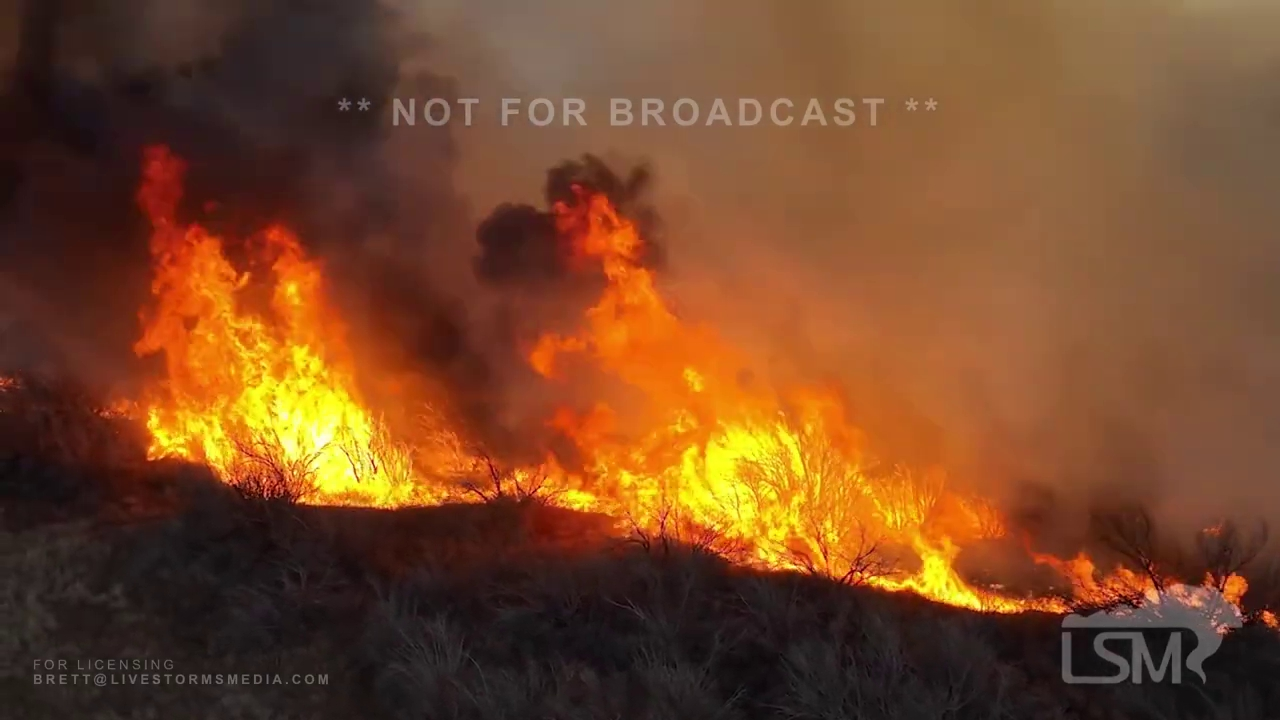forest_fire: (514, 185, 1159, 612), (135, 146, 480, 506), (1206, 573, 1247, 602), (1264, 615, 1272, 622), (440, 429, 446, 434)
